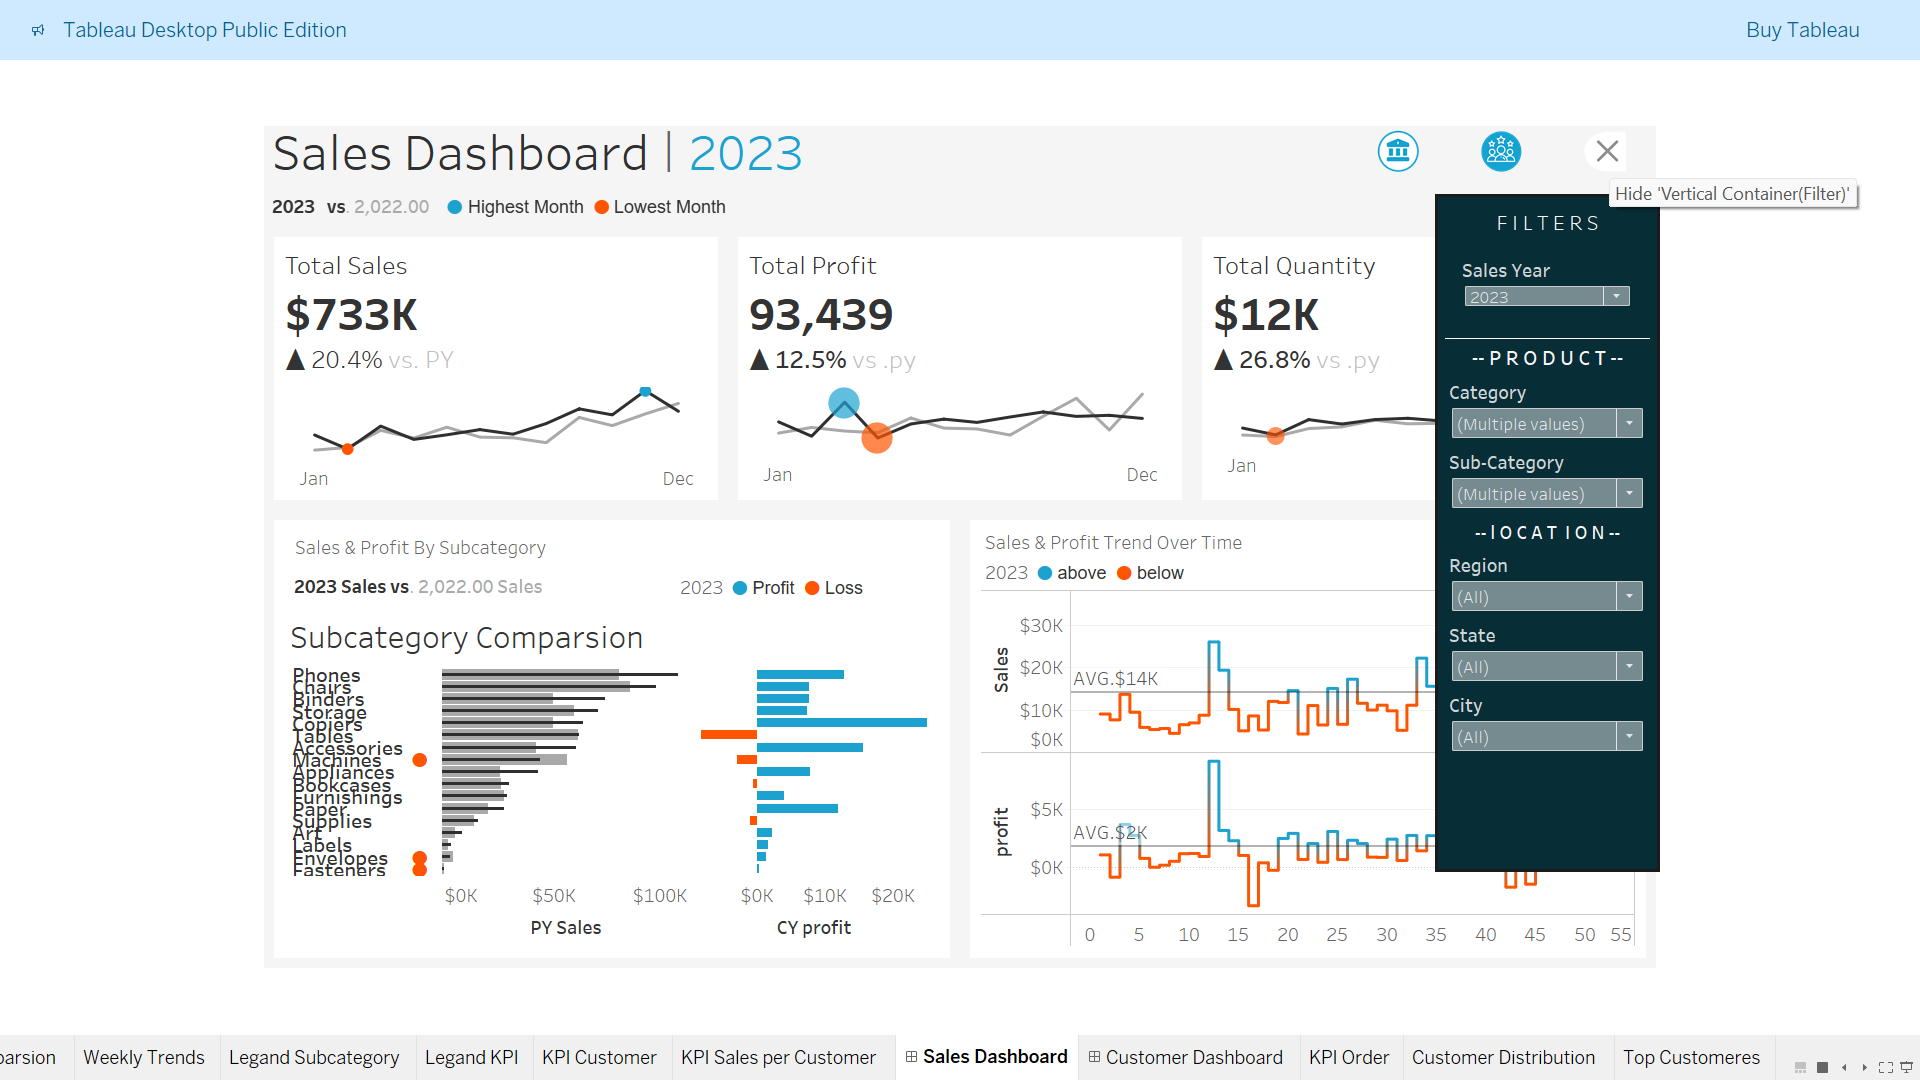

This screenshot's page, from the dashboard's own definition file:
{"tool":"tableau","page":{"name":"Sales Dashboard","canvas":[1400,850],"ordinal":1},"visuals":[{"type":"text","box":[4,4,1082,50]},{"type":"dashboard-object","box":[1086,4,104,50]},{"type":"dashboard-object","box":[1190,4,103,50]},{"type":"dashboard-object","box":[1293,4,103,50]},{"type":"worksheet","title":"Legand KPI","mark":"Automatic","box":[4,54,1392,51]},{"type":"text","box":[1185,82,205,36]},{"type":"worksheet","title":"KPI Sales","mark":"Automatic","rows":["Calculation_1280429690532470790"],"cols":["Order Date"],"box":[4,105,464,283]},{"type":"worksheet","title":"KPI profit","mark":"Automatic","rows":["Calculation_1280429690549026831"],"cols":["Order Date"],"box":[468,105,464,283]},{"type":"worksheet","title":"KPI Quantity","mark":"Automatic","rows":["Calculation_1280429690559594519"],"cols":["Order Date"],"box":[932,105,464,283]},{"type":"parameter","param":"[Parameters].[Parameter 1]","box":[1185,118,205,98]},{"type":"blank","box":[1185,216,205,1]},{"type":"text","box":[1185,217,205,36]},{"type":"filter","title":"KPI Sales","param":"[federated.0opmaap1ndr5ws1cathez08sfg5k].[none:Category:nk]","box":[1185,253,205,70]},{"type":"filter","title":"KPI Sales","param":"[federated.0opmaap1ndr5ws1cathez08sfg5k].[none:Sub-Category:nk]","box":[1185,323,205,70]},{"type":"text","box":[1185,393,205,33]},{"type":"text","box":[717,405,662,30]},{"type":"text","box":[22,406,660,38]},{"type":"filter","title":"KPI Sales","param":"[federated.0opmaap1ndr5ws1cathez08sfg5k].[none:Region:nk]","box":[1185,426,205,70]},{"type":"text","box":[717,435,662,29]},{"type":"worksheet","title":"Legand Subcategory","mark":"Automatic","box":[21,445,391,39]},{"type":"text","box":[412,445,271,39]},{"type":"worksheet","title":"Weekly Trends","mark":"Automatic","rows":["Calculation_1280429690528129024","Calculation_1280429690545188875"],"cols":["Order Date"],"box":[717,464.2,662,364.8]},{"type":"worksheet","title":"Subcategory Comparsion","mark":"Bar","rows":["Sub-Category","Calculation_1280429690700341274"],"cols":["CY Sales (copy)_1280429690529353731","Calculation_1280429690528129024","Calculation_1280429690545188875"],"box":[21,484,662,344.9]},{"type":"filter","title":"KPI Sales","param":"[federated.0opmaap1ndr5ws1cathez08sfg5k].[none:State:nk]","box":[1185,496,205,70]},{"type":"filter","title":"KPI Sales","param":"[federated.0opmaap1ndr5ws1cathez08sfg5k].[none:City:nk]","box":[1185,566,205,70]}]}

Visuals, with their boxes on the page's 1400x850 design canvas (x1, y1, x2, y2). These are canvas units, not pixel positions in the 1920x1080 screenshot, which may show the page scaled, cropped or inside an application window:
text: pyautogui.locateOnScreen(4, 4, 1086, 54)
dashboard-object: pyautogui.locateOnScreen(1086, 4, 1190, 54)
dashboard-object: pyautogui.locateOnScreen(1190, 4, 1293, 54)
dashboard-object: pyautogui.locateOnScreen(1293, 4, 1396, 54)
"Legand KPI" worksheet: pyautogui.locateOnScreen(4, 54, 1396, 105)
text: pyautogui.locateOnScreen(1185, 82, 1390, 118)
"KPI Sales" worksheet: pyautogui.locateOnScreen(4, 105, 468, 388)
"KPI profit" worksheet: pyautogui.locateOnScreen(468, 105, 932, 388)
"KPI Quantity" worksheet: pyautogui.locateOnScreen(932, 105, 1396, 388)
parameter: pyautogui.locateOnScreen(1185, 118, 1390, 216)
blank: pyautogui.locateOnScreen(1185, 216, 1390, 217)
text: pyautogui.locateOnScreen(1185, 217, 1390, 253)
"KPI Sales" filter: pyautogui.locateOnScreen(1185, 253, 1390, 323)
"KPI Sales" filter: pyautogui.locateOnScreen(1185, 323, 1390, 393)
text: pyautogui.locateOnScreen(1185, 393, 1390, 426)
text: pyautogui.locateOnScreen(717, 405, 1379, 435)
text: pyautogui.locateOnScreen(22, 406, 682, 444)
"KPI Sales" filter: pyautogui.locateOnScreen(1185, 426, 1390, 496)
text: pyautogui.locateOnScreen(717, 435, 1379, 464)
"Legand Subcategory" worksheet: pyautogui.locateOnScreen(21, 445, 412, 484)
text: pyautogui.locateOnScreen(412, 445, 683, 484)
"Weekly Trends" worksheet: pyautogui.locateOnScreen(717, 464, 1379, 829)
"Subcategory Comparsion" worksheet (Bar marks): pyautogui.locateOnScreen(21, 484, 683, 829)
"KPI Sales" filter: pyautogui.locateOnScreen(1185, 496, 1390, 566)
"KPI Sales" filter: pyautogui.locateOnScreen(1185, 566, 1390, 636)
